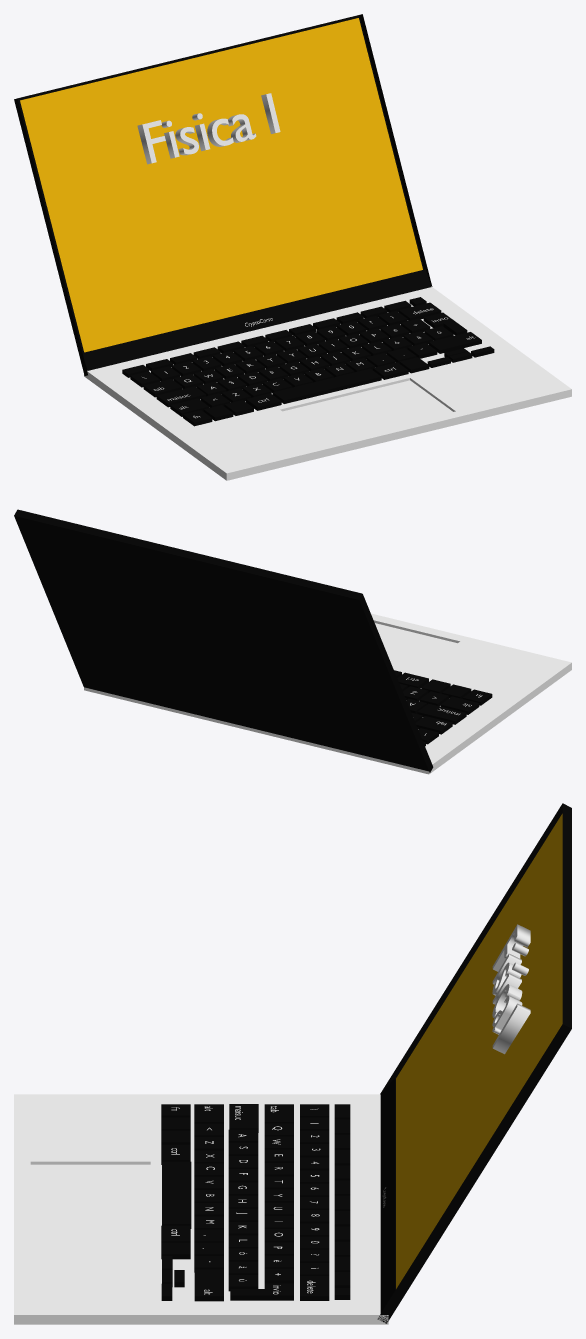
The model's file is fisica.glb.
The picture shows the model from 3 angles, top to bottom: view 1: azimuth 30°, elevation 25°; view 2: azimuth 150°, elevation 25°; view 3: azimuth 270°, elevation 25°; orthographic projection. The views are drawn at different scales.
Visible parts, largest first — view 1: Cube.073, Cube, Cube.074, Cube.001, Text, Cube.072, Cube.123; view 2: Cube.001, Cube, Cube.065, Cube.064, Cube.066, Cube.071; view 3: Cube, Cube.073, Cube.001, Cube.074, Text, Cube.072, Cube.123, Cube.065, Cube.027.
Part boxes in pixels (<box>): Cube.073: <box>20,18,422,352</box>; Cube: <box>84,286,571,480</box>; Cube.074: <box>82,269,431,370</box>; Cube.001: <box>14,14,432,375</box>; Text: <box>137,93,280,164</box>; Cube.072: <box>272,368,381,403</box>; Cube.123: <box>428,332,481,353</box>; Cube.001: <box>14,509,433,772</box>; Cube: <box>84,613,571,774</box>; Cube.065: <box>417,703,466,724</box>; Cube.064: <box>440,696,479,714</box>; Cube.066: <box>415,716,452,734</box>; Cube.071: <box>397,672,428,688</box>; Cube: <box>14,1094,388,1324</box>; Cube.073: <box>396,813,562,1288</box>; Cube.001: <box>377,803,571,1323</box>; Cube.074: <box>380,1077,396,1313</box>; Text: <box>492,924,530,1054</box>; Cube.072: <box>162,1161,191,1228</box>; Cube.123: <box>194,1269,223,1301</box>; Cube.065: <box>229,1104,258,1132</box>; Cube.027: <box>300,1276,329,1300</box>.
Bounding box in the file's own units: 6.79 × 4.31 × 7.25.
